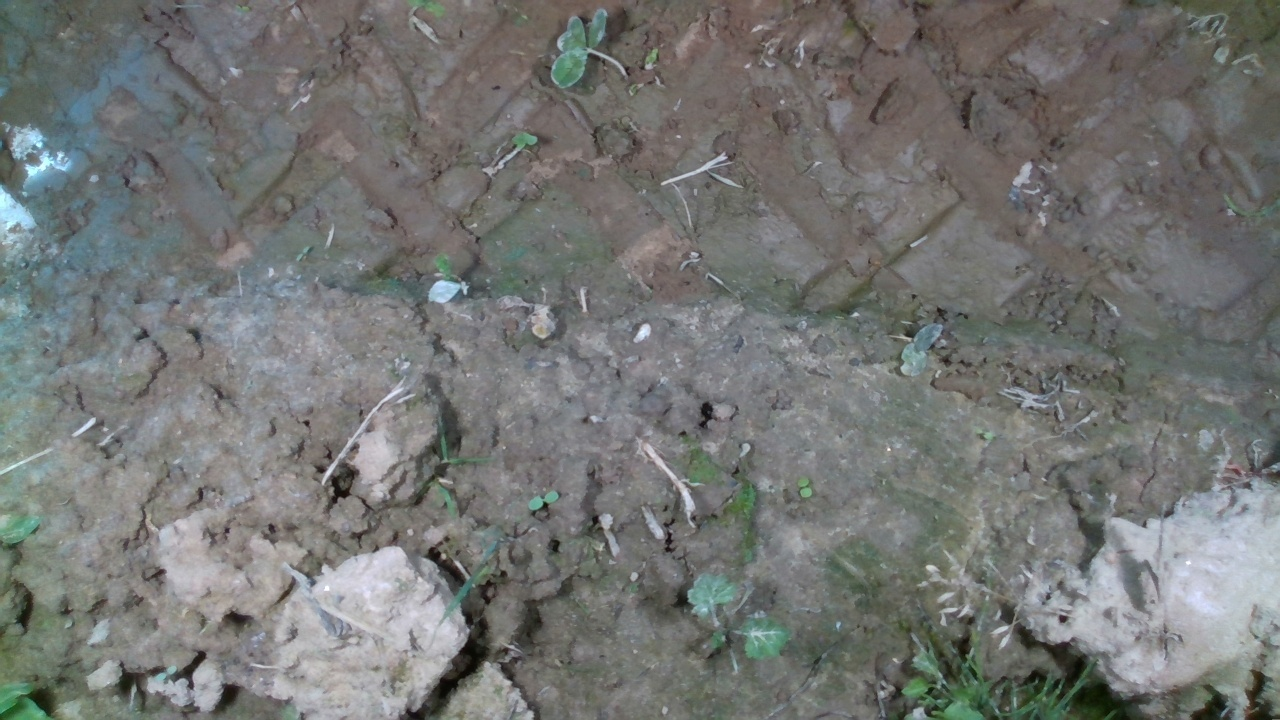weed: (525, 487, 558, 512), (797, 476, 813, 500)
